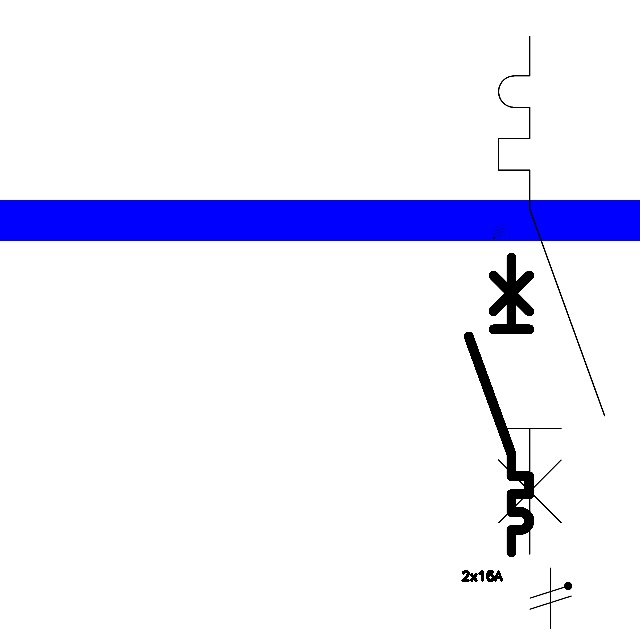interruptor_termomagnetico: (485, 23, 618, 567), (461, 250, 537, 560)
